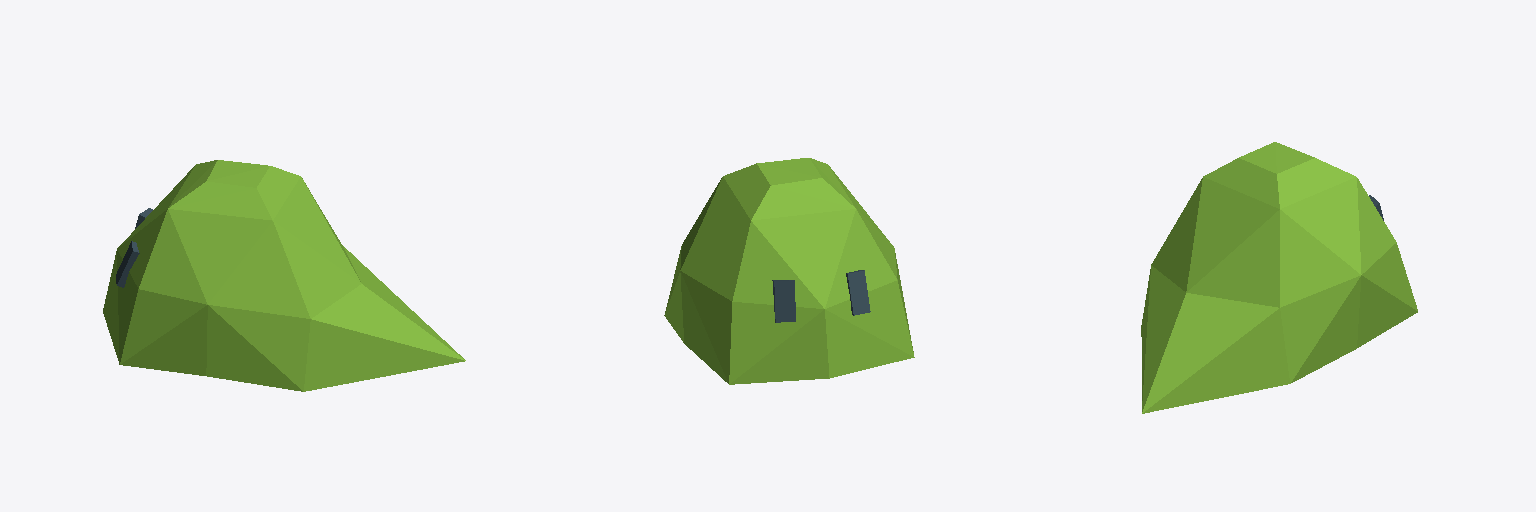
3 views of the same model, side by side, from view 1: azimuth 30°, elevation 25°; view 2: azimuth 150°, elevation 25°; view 3: azimuth 270°, elevation 25° (orthographic).
Parts seen in each view (by area): view 1: group[number redacted]; view 2: group[number redacted], group[number redacted], group[number redacted]; view 3: group[number redacted].
Boxes of the visible parts, x1=… form: group[number redacted]: x1=103, y1=160, x2=465, y2=391; group[number redacted]: x1=664, y1=158, x2=914, y2=384; group[number redacted]: x1=772, y1=280, x2=795, y2=322; group[number redacted]: x1=846, y1=270, x2=870, y2=315; group[number redacted]: x1=1141, y1=142, x2=1417, y2=413.
Size of the model in its own units: 0.3184 by 0.1915 by 0.27.